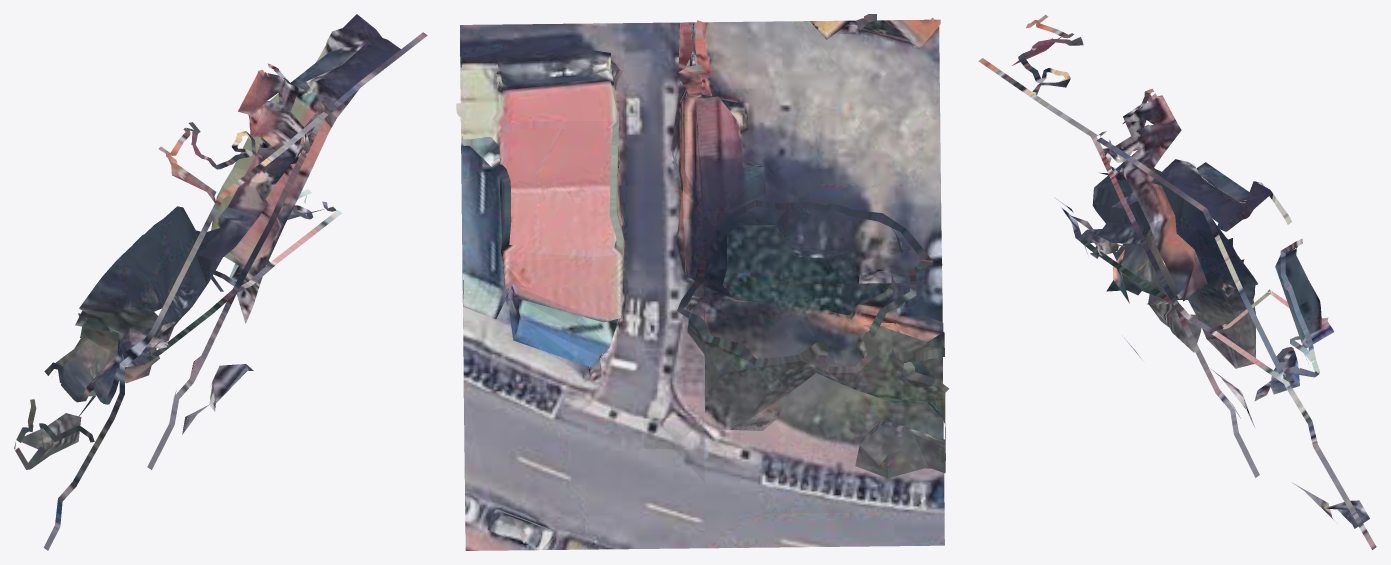
3 renders of one model, left to right at view 1: azimuth 30°, elevation 25°; view 2: azimuth 150°, elevation 25°; view 3: azimuth 270°, elevation 25°, orthographic. The views are drawn at different scales.
Size of the model in its own units: 39.36 by 37.84 by 32.53.
2 materials, 2 textured.
